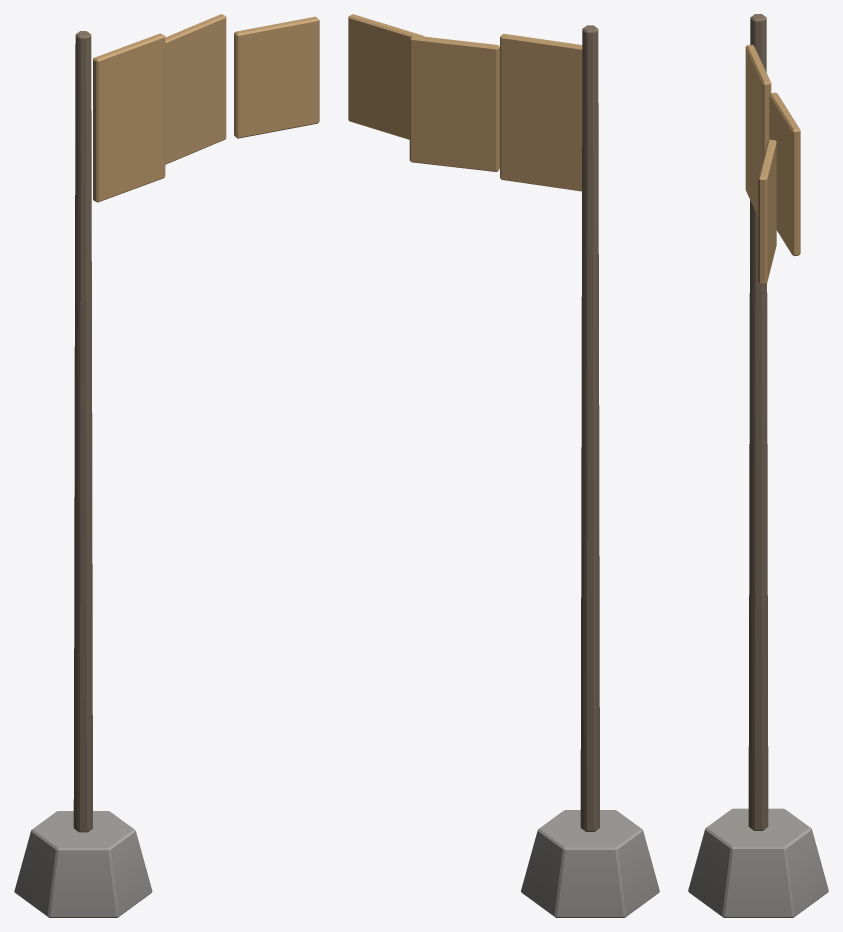
Rendered from iv_flag_t.glb.
3 renders of one model, left to right at view 1: azimuth 30°, elevation 25°; view 2: azimuth 150°, elevation 25°; view 3: azimuth 270°, elevation 25°, orthographic.
Parts seen in each view (by area): view 1: iv_flag_t; view 2: iv_flag_t; view 3: iv_flag_t.
Part boxes in pixels (x1,y1,x2,y2): iv_flag_t: [14, 14, 319, 917]; iv_flag_t: [348, 14, 659, 917]; iv_flag_t: [688, 14, 828, 917].
Size of the model in its own units: 1.9 by 5.4 by 0.785.
